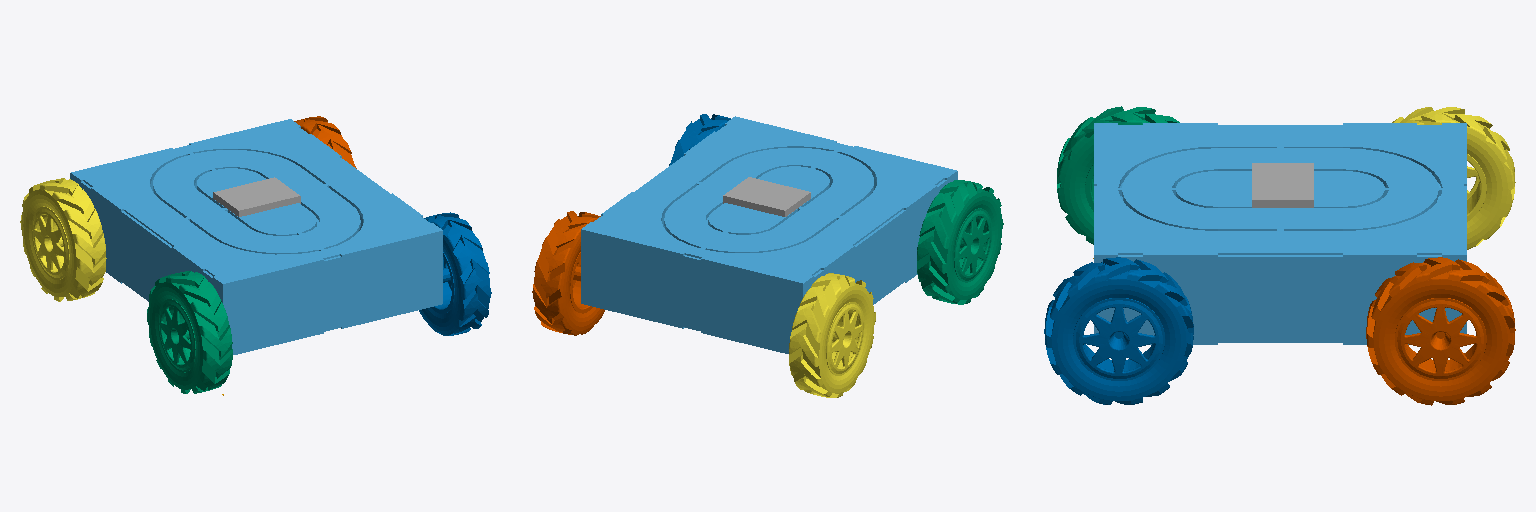
URDF robot description (mecanum_wheeled_robot):
<?xml version="1.0" ?>
<robot name="mecanum_wheeled_robot" >
  <!-- Wheels -->
  <!-- in kg-->
  <!-- Defining the colors used in this robot -->
  <material name="Black">
    <color rgba="0.0 0.0 0.0 1.0"/>
  </material>
  <material name="Red">
    <color rgba="0.8 0.0 0.0 1.0"/>
  </material>
  <material name="White">
    <color rgba="1.0 1.0 1.0 1.0"/>
  </material>
  <material name="Blue">
    <color rgba="0.0 0.0 0.8 1.0"/>
  </material>
  <material name="base">
   <texture filename="package://thedush_robots/texture/texture5.jpg"/>
  </material>
   <material name="Wheels1">
   <texture filename="package://thedush_robots/texture/texture6.jpg"/>
  </material>

  <material name="texture1">
   <texture filename="package://thedush_robots/texture/texture4.jpg"/>
  </material>
  <!-- PROPERTY LIST -->
  <!--All units in m-kg-s-radians unit system -->
  <!-- Main body radius and height -->
  <!-- Main Body Cylinder base   -->
  <!-- in kg-->
  <!-- caster wheel radius and height -->
  <!-- caster wheel mass -->
  <!-- in kg-->
  <!-- caster wheel radius and height -->
  <!-- caster wheel mass -->
  <!-- in kg-->
  <!-- Wheels -->
 
 
  <!-- in kg-->
  <!-- Hokuyo Laser scanner -->
  <!-- Macro for calculating inertia of cylinder -->
  <!-- BASE-FOOTPRINT -->
  <!-- base_footprint is a fictitious link(frame) that is on the ground right below base_link origin -->
  <link name="base_footprint">
    <inertial>
      <mass value="0.0001"/>
      <origin xyz="0 0 0"/>
      <inertia ixx="0.0001" ixy="0.0" ixz="0.0" iyy="0.0001" iyz="0.0" izz="0.0001"/>
    </inertial>
    <visual>
      <origin rpy="0 0 0" xyz="0 0 0"/>
      <geometry>
        <box size="0.001 0.001 0.001"/>
      </geometry>
    </visual>
  </link>
  <gazebo reference="base_footprint">
    <turnGravityOff>false</turnGravityOff>
  </gazebo>
  <joint name="base_footprint_joint" type="fixed">
    <origin rpy="0 0 0" xyz="0 0 0.04"/>
    <parent link="base_footprint"/>
    <child link="base_link"/>
  </joint>
  <!-- BASE-LINK -->
  <!--Actual body/chassis of the robot-->
  <link name="base_link">
    <inertial>
      <mass value="5"/>
      <origin xyz="0 0 0"/>
      <!--The 3x3 rotational inertia matrix. -->
      <inertia ixx="0.0282916666667" ixy="0" ixz="0" iyy="0.0282916666667" iyz="0" izz="0.05625"/>
    </inertial>
    <visual>
      <origin rpy="1.57079632679 0 0" xyz="0 0 0"/>
      <geometry>
       <mesh
          filename="package://thedush_robots/meshes/robot_case/skid_case.STL" />
      </geometry>
      <material name="base"/>
    </visual>
    <collision>
      <origin rpy="1.57079632679 0 0 " xyz="0 0 0"/>
      <geometry>
        <mesh
          filename="package://thedush_robots/meshes/robot_case/skid_case.STL" />
      </geometry>
    </collision>
  </link>
  <gazebo reference="base_link">
    <material>Gazebo/White</material>
    <turnGravityOff>false</turnGravityOff>
  </gazebo>
  <!--fb : front, back ; lr: left, right -->
  <link name="front_right_wheel">
    <visual>
      <origin rpy="1.57079632679 0  1.57079632679 " xyz="0 0 0"/>
      <geometry>
        <mesh
          filename="package://thedush_robots/meshes/wheels/track_wheel.STL" />
      </geometry>
      <material name="Wheels1"/>
    </visual>
    <collision>
      <origin rpy="1.57079632679 0 1.57079632679 " xyz="0 0 0"/>
      <geometry>
        <mesh
          filename="package://thedush_robots/meshes/wheels/track_wheel.STL"/>
      </geometry>
    </collision>
    <inertial>
      <mass value="2.5"/>
      <origin xyz="0 0 0"/>
      <inertia ixx="0.00108333333333" ixy="0" ixz="0" iyy="0.00108333333333" iyz="0" izz="0.002"/>
    </inertial>
  </link>



   <link name="back_right_wheel">
    <visual>
      <origin rpy="1.57079632679 0  1.57079632679 " xyz="0 0 0"/>
      <geometry>
        <mesh
          filename="package://thedush_robots/meshes/wheels/track_wheel.STL"/>
      </geometry>
      <material name="Wheels1"/>
    </visual>
    <collision>
      <origin rpy="1.57079632679 0 1.57079632679 " xyz="0 0 0"/>
      <geometry>
        <mesh
          filename="package://thedush_robots/meshes/wheels/track_wheel.STL" />
      </geometry>
    </collision>
    <inertial>
      <mass value="2.5"/>
      <origin xyz="0 0 0"/>
      <inertia ixx="0.00108333333333" ixy="0" ixz="0" iyy="0.00108333333333" iyz="0" izz="0.002"/>
    </inertial>
  </link>



  <gazebo reference="front_right_wheel">
    <mu1 value="1.0"/>
    <mu2 value="1.0"/>
    <kp value="10000000.0"/>
    <kd value="1.0"/>
    <fdir1 value="1 0 0"/>
    <material>Gazebo/Grey</material>
    <turnGravityOff>false</turnGravityOff>
  </gazebo>

 <gazebo reference="back_right_wheel">
    <mu1 value="1.0"/>
    <mu2 value="1.0"/>
    <kp value="10000000.0"/>
    <kd value="1.0"/>
    <fdir1 value="1 0 0"/>
    <material>Gazebo/Grey</material>
    <turnGravityOff>false</turnGravityOff>
  </gazebo>

  <joint name="front_right_wheel_joint" type="continuous">
    <parent link="base_link"/>
    <child link="front_right_wheel"/>
    <origin rpy="0 0 0" xyz="-0.00511026754975 0.030233097076 0.02"/>
    <axis rpy="0 1 0" xyz="1 0 0"/>
    <limit effort="100" velocity="100"/>
    <joint_properties damping="0.0" friction="0.0"/>
  </joint>


  <joint name="back_right_wheel_joint" type="continuous">
    <parent link="base_link"/>
    <child link="back_right_wheel"/>
    <origin rpy="0 0 0" xyz="-0.00511026754975 0.278708338737 0.02"/>
    <axis rpy="0  0" xyz="1 0 0"/>
    <limit effort="100" velocity="100"/>
    <joint_properties damping="0.0" friction="0.0"/>
  </joint>

  <!-- Transmission is important to link the joints and the controller -->
  <transmission name="front_right_wheel_joint_trans">
    <type>transmission_interface/SimpleTransmission</type>
    <joint name="front_right_wheel_joint"/>
    <actuator name="front_right_wheel_joint_motor">
      <hardwareInterface>EffortJointInterface</hardwareInterface>
      <mechanicalReduction>1</mechanicalReduction>
    </actuator>
  </transmission>

 <transmission name="back_right_wheel_joint_trans">
    <type>transmission_interface/SimpleTransmission</type>
    <joint name="back_right_wheel_joint"/>
    <actuator name="back_right_wheel_joint_motor">
      <hardwareInterface>EffortJointInterface</hardwareInterface>
      <mechanicalReduction>1</mechanicalReduction>
    </actuator>
  </transmission>


  <!--fb : front, back ; lr: left, right -->
  <link name="front_left_wheel">
    <visual>
      <origin rpy="1.57079632679 0  -1.57079632679 " xyz="0 0 0"/>
      <geometry>
        <mesh
          filename="package://thedush_robots/meshes/wheels/track_wheel.STL" />
      </geometry>
      <material name="Wheels1"/>
    </visual>
    <collision>
      <origin rpy="1.57079632679 0 -1.57079632679 " xyz="0 0 0"/>
      <geometry>
        <mesh
          filename="package://thedush_robots/meshes/wheels/track_wheel.STL"/>
      </geometry>
    </collision>
    <inertial>
      <mass value="2.5"/>
      <origin xyz="0 0 0"/>
      <inertia ixx="0.00108333333333" ixy="0" ixz="0" iyy="0.00108333333333" iyz="0" izz="0.002"/>
    </inertial>
  </link>

   <link name="back_left_wheel">
    <visual>
      <origin rpy="1.57079632679 0  -1.57079632679 " xyz="0 0 0"/>
      <geometry>
        <mesh
          filename="package://thedush_robots/meshes/wheels/track_wheel.STL" />
      </geometry>
      <material name="Wheels1"/>
    </visual>
    <collision>
      <origin rpy="1.57079632679 0 -1.57079632679 " xyz="0 0 0"/>
      <geometry>
        <mesh
          filename="package://thedush_robots/meshes/wheels/track_wheel.STL" />
      </geometry>
    </collision>
    <inertial>
      <mass value="2.5"/>
      <origin xyz="0 0 0"/>
      <inertia ixx="0.00108333333333" ixy="0" ixz="0" iyy="0.00108333333333" iyz="0" izz="0.002"/>
    </inertial>
  </link>


  <gazebo reference="front_left_wheel">
    <mu1 value="1.0"/>
    <mu2 value="1.0"/>
    <kp value="10000000.0"/>
    <kd value="1.0"/>
    <fdir1 value="1 0 0"/>
    <material>Gazebo/Grey</material>
    <turnGravityOff>false</turnGravityOff>
  </gazebo>

  <gazebo reference="back_left_wheel">
    <mu1 value="1.0"/>
    <mu2 value="1.0"/>
    <kp value="10000000.0"/>
    <kd value="1.0"/>
    <fdir1 value="1 0 0"/>
    <material>Gazebo/Grey</material>
    <turnGravityOff>false</turnGravityOff>
  </gazebo>


  <joint name="front_left_wheel_joint" type="continuous">
    <parent link="base_link"/>
    <child link="front_left_wheel"/>
    <origin rpy="0 0 0" xyz="0.25275439024 0.0205529135466 0.02"/>
    <axis rpy="0  0" xyz="1 0 0"/>
    <limit effort="100" velocity="100"/>
    <joint_properties damping="0.0" friction="0.0"/>
  </joint>



  <joint name="back_left_wheel_joint" type="continuous">
    <parent link="base_link"/>
    <child link="back_left_wheel"/>
    <origin rpy="0 0 0" xyz="0.25275439024 0.278708338737 0.02"/>
    <axis rpy="0  0" xyz="1 0 0"/>
    <limit effort="100" velocity="100"/>
    <joint_properties damping="0.0" friction="0.0"/>
  </joint>

  <!-- Transmission is important to link the joints and the controller -->
  <transmission name="front_left_wheel_joint_trans">
    <type>transmission_interface/SimpleTransmission</type>
    <joint name="front_left_wheel_joint"/>
    <actuator name="front_left_wheel_joint_motor">
      <hardwareInterface>EffortJointInterface</hardwareInterface>
      <mechanicalReduction>1</mechanicalReduction>
    </actuator>
  </transmission>



    <transmission name="back_left_wheel_joint_trans">
    <type>transmission_interface/SimpleTransmission</type>
    <joint name="back_left_wheel_joint"/>
    <actuator name="back_left_wheel_joint_motor">
      <hardwareInterface>EffortJointInterface</hardwareInterface>
      <mechanicalReduction>1</mechanicalReduction>
    </actuator>
  </transmission>

  
 


 
  <link name="hokuyo_link">
    <visual>
      <origin rpy="0 0 -1.57079632679" xyz="0 0 0"/>
      <geometry>
        <mesh
          filename="package://thedush_robots/meshes/sensors/xtion_pro_live.dae"/>
    
       <!--  <box size="0.05 0.05 0.05"/> -->
      </geometry>
      <material name="Blue"/>
    </visual>
  </link>
  <joint name="hokuyo_joint" type="fixed">
    <origin rpy="0 0 0" xyz="0.126225844026 0.0192884281278 0.092048214078"/>
    <parent link="base_link"/>
    <child link="hokuyo_link"/>
  </joint>

<link name="imu_link">
    <visual>
      <origin rpy="0 0 -1.57079632679" xyz="0 0 0"/>
      <geometry>
        
         <box size="0.05 0.07 0.01"/> 
      </geometry>
      <material name="texture1"/>
    </visual>
  </link>
  <joint name="imu_joint" type="fixed">
    <origin rpy="0 0 0" xyz="0.126225844026 0.15192884281278 0.082048214078"/>
    <parent link="base_link"/>
    <child link="imu_link"/>
  </joint>

  <gazebo reference="hokuyo_link">
    <material>Gazebo/Grey</material>
    <turnGravityOff>false</turnGravityOff>
    <sensor name="head_hokuyo_sensor" type="ray">
      <pose>0.025 0 0 0 0 0</pose>
      <visualize>false</visualize>
      <update_rate>40</update_rate>
      <ray>
        <scan>
          <horizontal>
            <samples>720</samples>
            <resolution>1</resolution>
            <min_angle>0</min_angle>
            <max_angle>-3.14570796</max_angle>
          </horizontal>
        </scan>
        <range>
          <min>0.10</min>
          <max>10.0</max>
          <resolution>0.001</resolution>
        </range>
      </ray>
      <plugin filename="libgazebo_ros_laser.so" name="gazebo_ros_head_hokuyo_controller">
        <topicName>/scan</topicName>
        <frameName>hokuyo_link</frameName>
      </plugin>
    </sensor>
  </gazebo>
<gazebo>
<plugin name="skid_steer_drive_controller" filename="libgazebo_ros_skid_steer_drive.so">
      <!--<robotNamespace>/summit_xl</robotNamespace>-->
        <updateRate>100.0</updateRate>
        <leftFrontJoint>front_left_wheel_joint</leftFrontJoint>  
        <rightFrontJoint>front_right_wheel_joint</rightFrontJoint>
        <leftRearJoint>back_left_wheel_joint</leftRearJoint>
        <rightRearJoint>back_right_wheel_joint</rightRearJoint>
        <wheelSeparation>0.26</wheelSeparation> <!-- real parameter value -->
        <wheelSeparation>1.5</wheelSeparation> <!-- works a bit better in Gazebo -->
        <wheelDiameter>0.234</wheelDiameter>
        <robotBaseFrame>base_footprint</robotBaseFrame>
        <torque>50</torque>
        <commandTopic>cmd_vel</commandTopic>
        <odometryTopic>odom</odometryTopic>
        <!--odometryFrame>/odom</odometryFrame-->
        <odometryFrame>odom</odometryFrame>
        <broadcastTF>1</broadcastTF>
      </plugin>
   </gazebo>
   <gazebo reference="imu_link">
    <material>Gazebo/Orange</material>
  </gazebo>
   <gazebo>
    <plugin name="imu_plugin" filename="libgazebo_ros_imu.so">
      <alwaysOn>true</alwaysOn>
      <bodyName>imu_link</bodyName>
      <topicName>imu</topicName>
      <serviceName>imu_service</serviceName>
      <gaussianNoise>0.0</gaussianNoise>
      <updateRate>20.0</updateRate>
    </plugin>
  </gazebo>
  
</robot>

--- Facts derived from the render (not from the file) ---
The picture shows the robot from 3 angles, left to right: view 1: azimuth 30°, elevation 25°; view 2: azimuth 150°, elevation 25°; view 3: azimuth 270°, elevation 25°; orthographic projection.
Robot: mecanum_wheeled_robot — 8 links, 7 joints (4 continuous, 3 fixed); root link base_footprint; default pose: every joint at zero.
Visible links, largest first — view 1: base_link, front_right_wheel, back_right_wheel, front_left_wheel, imu_link, back_left_wheel; view 2: base_link, front_right_wheel, back_right_wheel, back_left_wheel, imu_link, front_left_wheel; view 3: base_link, front_left_wheel, back_left_wheel, back_right_wheel, front_right_wheel, imu_link.
Link boxes in pixels (x1,y1,x2,y2): base_link: (70, 119, 442, 354); front_right_wheel: (147, 271, 232, 393); back_right_wheel: (20, 178, 106, 301); front_left_wheel: (419, 212, 491, 335); imu_link: (213, 177, 300, 216); back_left_wheel: (294, 116, 356, 168); base_link: (581, 116, 957, 353); front_right_wheel: (917, 180, 1003, 304); back_right_wheel: (789, 273, 875, 397); back_left_wheel: (532, 211, 604, 335); imu_link: (723, 177, 810, 216); front_left_wheel: (669, 114, 730, 165); base_link: (1094, 123, 1466, 344); front_left_wheel: (1044, 257, 1193, 404); back_left_wheel: (1366, 257, 1515, 405); back_right_wheel: (1392, 107, 1515, 249); front_right_wheel: (1057, 106, 1179, 244); imu_link: (1252, 163, 1313, 207).
Bounding box of the posed robot: 0.3222 × 0.3781 × 0.1275 m (x, y, z).
5 mesh visuals loaded from 3 distinct referenced files (2 binary STL); not drawn: 1 (reference not matched to a file when rendering).
